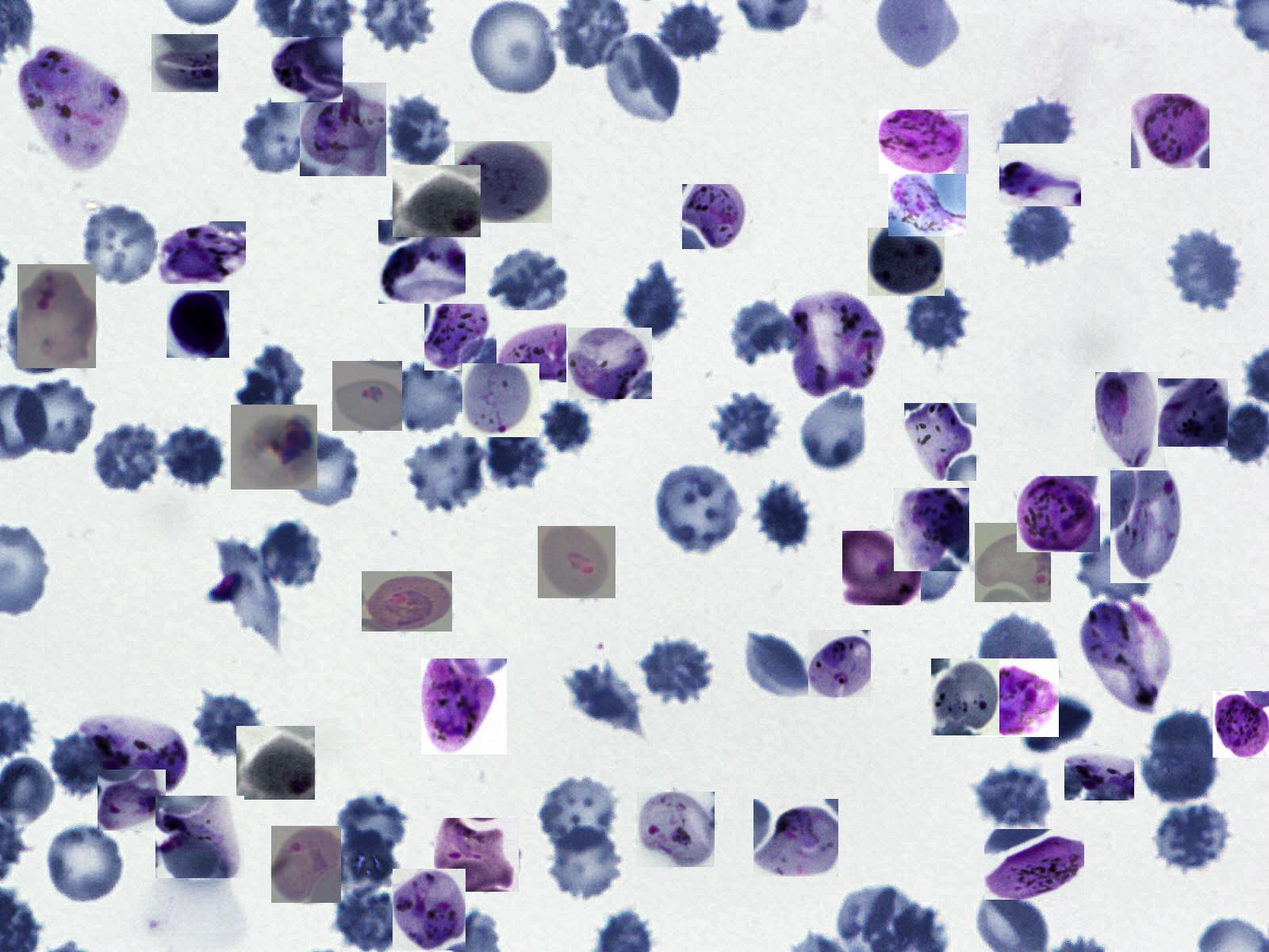Infected: (17, 44, 127, 163), (1078, 596, 1172, 711), (790, 290, 882, 399), (421, 658, 507, 754), (1110, 470, 1183, 583), (17, 264, 96, 368), (79, 716, 184, 794), (454, 141, 552, 223), (300, 83, 386, 176), (378, 220, 466, 304), (155, 796, 244, 878), (231, 405, 317, 489), (984, 829, 1084, 900), (976, 658, 1059, 737), (1095, 372, 1164, 467), (754, 799, 838, 877), (393, 165, 481, 237), (1017, 476, 1100, 552), (434, 818, 519, 892), (894, 488, 969, 571), (975, 523, 1051, 602), (568, 328, 652, 399), (393, 869, 466, 950), (1131, 94, 1210, 168), (236, 726, 315, 800), (842, 531, 921, 605), (879, 109, 968, 174), (638, 792, 715, 867), (462, 363, 539, 437), (904, 403, 976, 481), (888, 164, 966, 236), (538, 526, 615, 598), (159, 221, 246, 284), (362, 571, 452, 631), (271, 826, 341, 903), (868, 228, 945, 296), (931, 658, 999, 735), (999, 144, 1081, 206), (496, 310, 566, 382), (332, 361, 402, 431), (1158, 378, 1228, 447), (424, 304, 497, 370), (271, 37, 343, 102), (683, 184, 751, 249), (808, 630, 871, 697), (167, 290, 229, 358), (98, 770, 166, 831), (151, 34, 218, 92), (1064, 746, 1134, 800), (1213, 691, 1269, 758)
Uninfected: (466, 0, 560, 96), (653, 459, 743, 555), (212, 537, 283, 650), (76, 202, 165, 289), (404, 428, 492, 512), (561, 660, 650, 743), (1145, 708, 1221, 801), (537, 774, 623, 856), (13, 374, 101, 454), (1162, 228, 1244, 312), (977, 614, 1059, 697), (44, 823, 128, 904), (605, 34, 681, 123), (884, 519, 966, 601), (236, 94, 319, 175), (542, 823, 624, 902), (285, 429, 363, 509), (477, 248, 571, 314), (384, 90, 458, 172), (1150, 804, 1236, 873), (1075, 536, 1159, 605), (90, 420, 168, 493), (7, 294, 74, 377), (742, 629, 819, 701), (631, 636, 716, 701), (996, 97, 1076, 166), (323, 826, 401, 896), (973, 762, 1056, 827), (707, 391, 786, 458), (1003, 196, 1076, 268), (899, 285, 973, 356), (394, 362, 469, 432), (236, 344, 304, 418), (730, 298, 806, 364), (802, 390, 867, 467), (190, 688, 261, 758), (623, 262, 684, 342), (483, 418, 549, 491), (332, 887, 404, 952), (259, 519, 323, 589), (754, 476, 812, 553), (161, 423, 227, 490), (44, 730, 107, 797), (1022, 696, 1094, 754), (654, 2, 725, 60), (335, 792, 405, 849), (539, 396, 595, 457)
